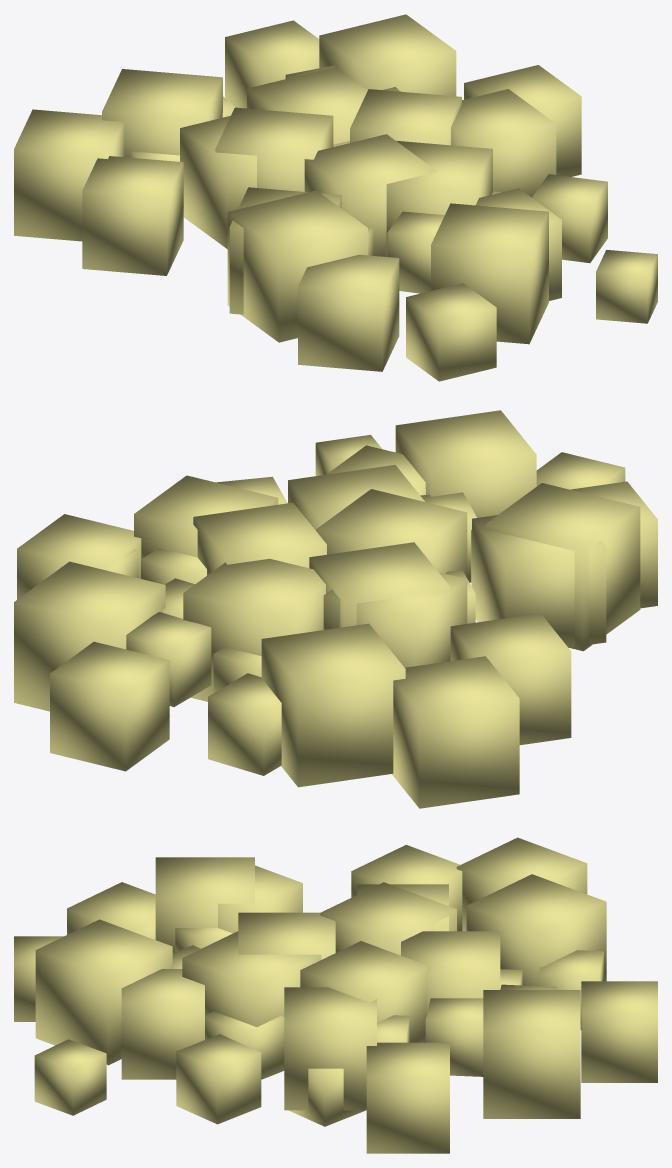
The model's file is garlicchopped1.fbx.
3 renders of one model, top to bottom at view 1: azimuth 30°, elevation 25°; view 2: azimuth 150°, elevation 25°; view 3: azimuth 270°, elevation 25°, orthographic. The views are drawn at different scales.
Visible parts, largest first — view 1: Cube.022; view 2: Cube.022; view 3: Cube.022.
Boxes of the visible parts, bbox=[...] form: Cube.022: bbox=[14, 14, 657, 381]; Cube.022: bbox=[14, 410, 657, 808]; Cube.022: bbox=[14, 837, 657, 1153].
Size of the model in its own units: 15.17 by 3.14 by 17.86.
